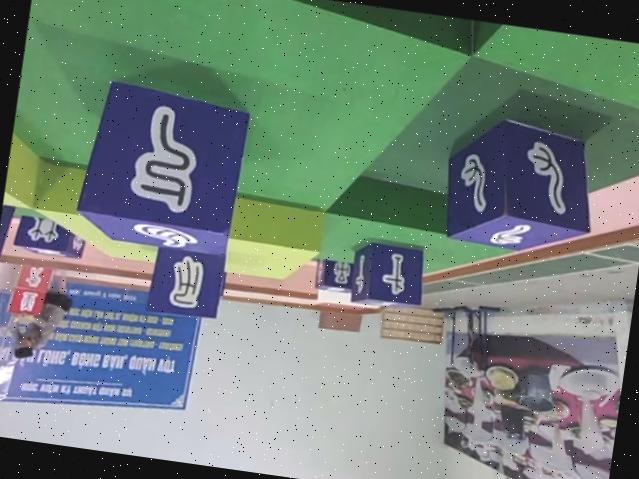R2 Fake Blue: (72, 74, 252, 260), (148, 241, 232, 322)
R2 Real Blue: (440, 107, 604, 257), (347, 235, 428, 311), (14, 211, 89, 258), (316, 256, 360, 293)
